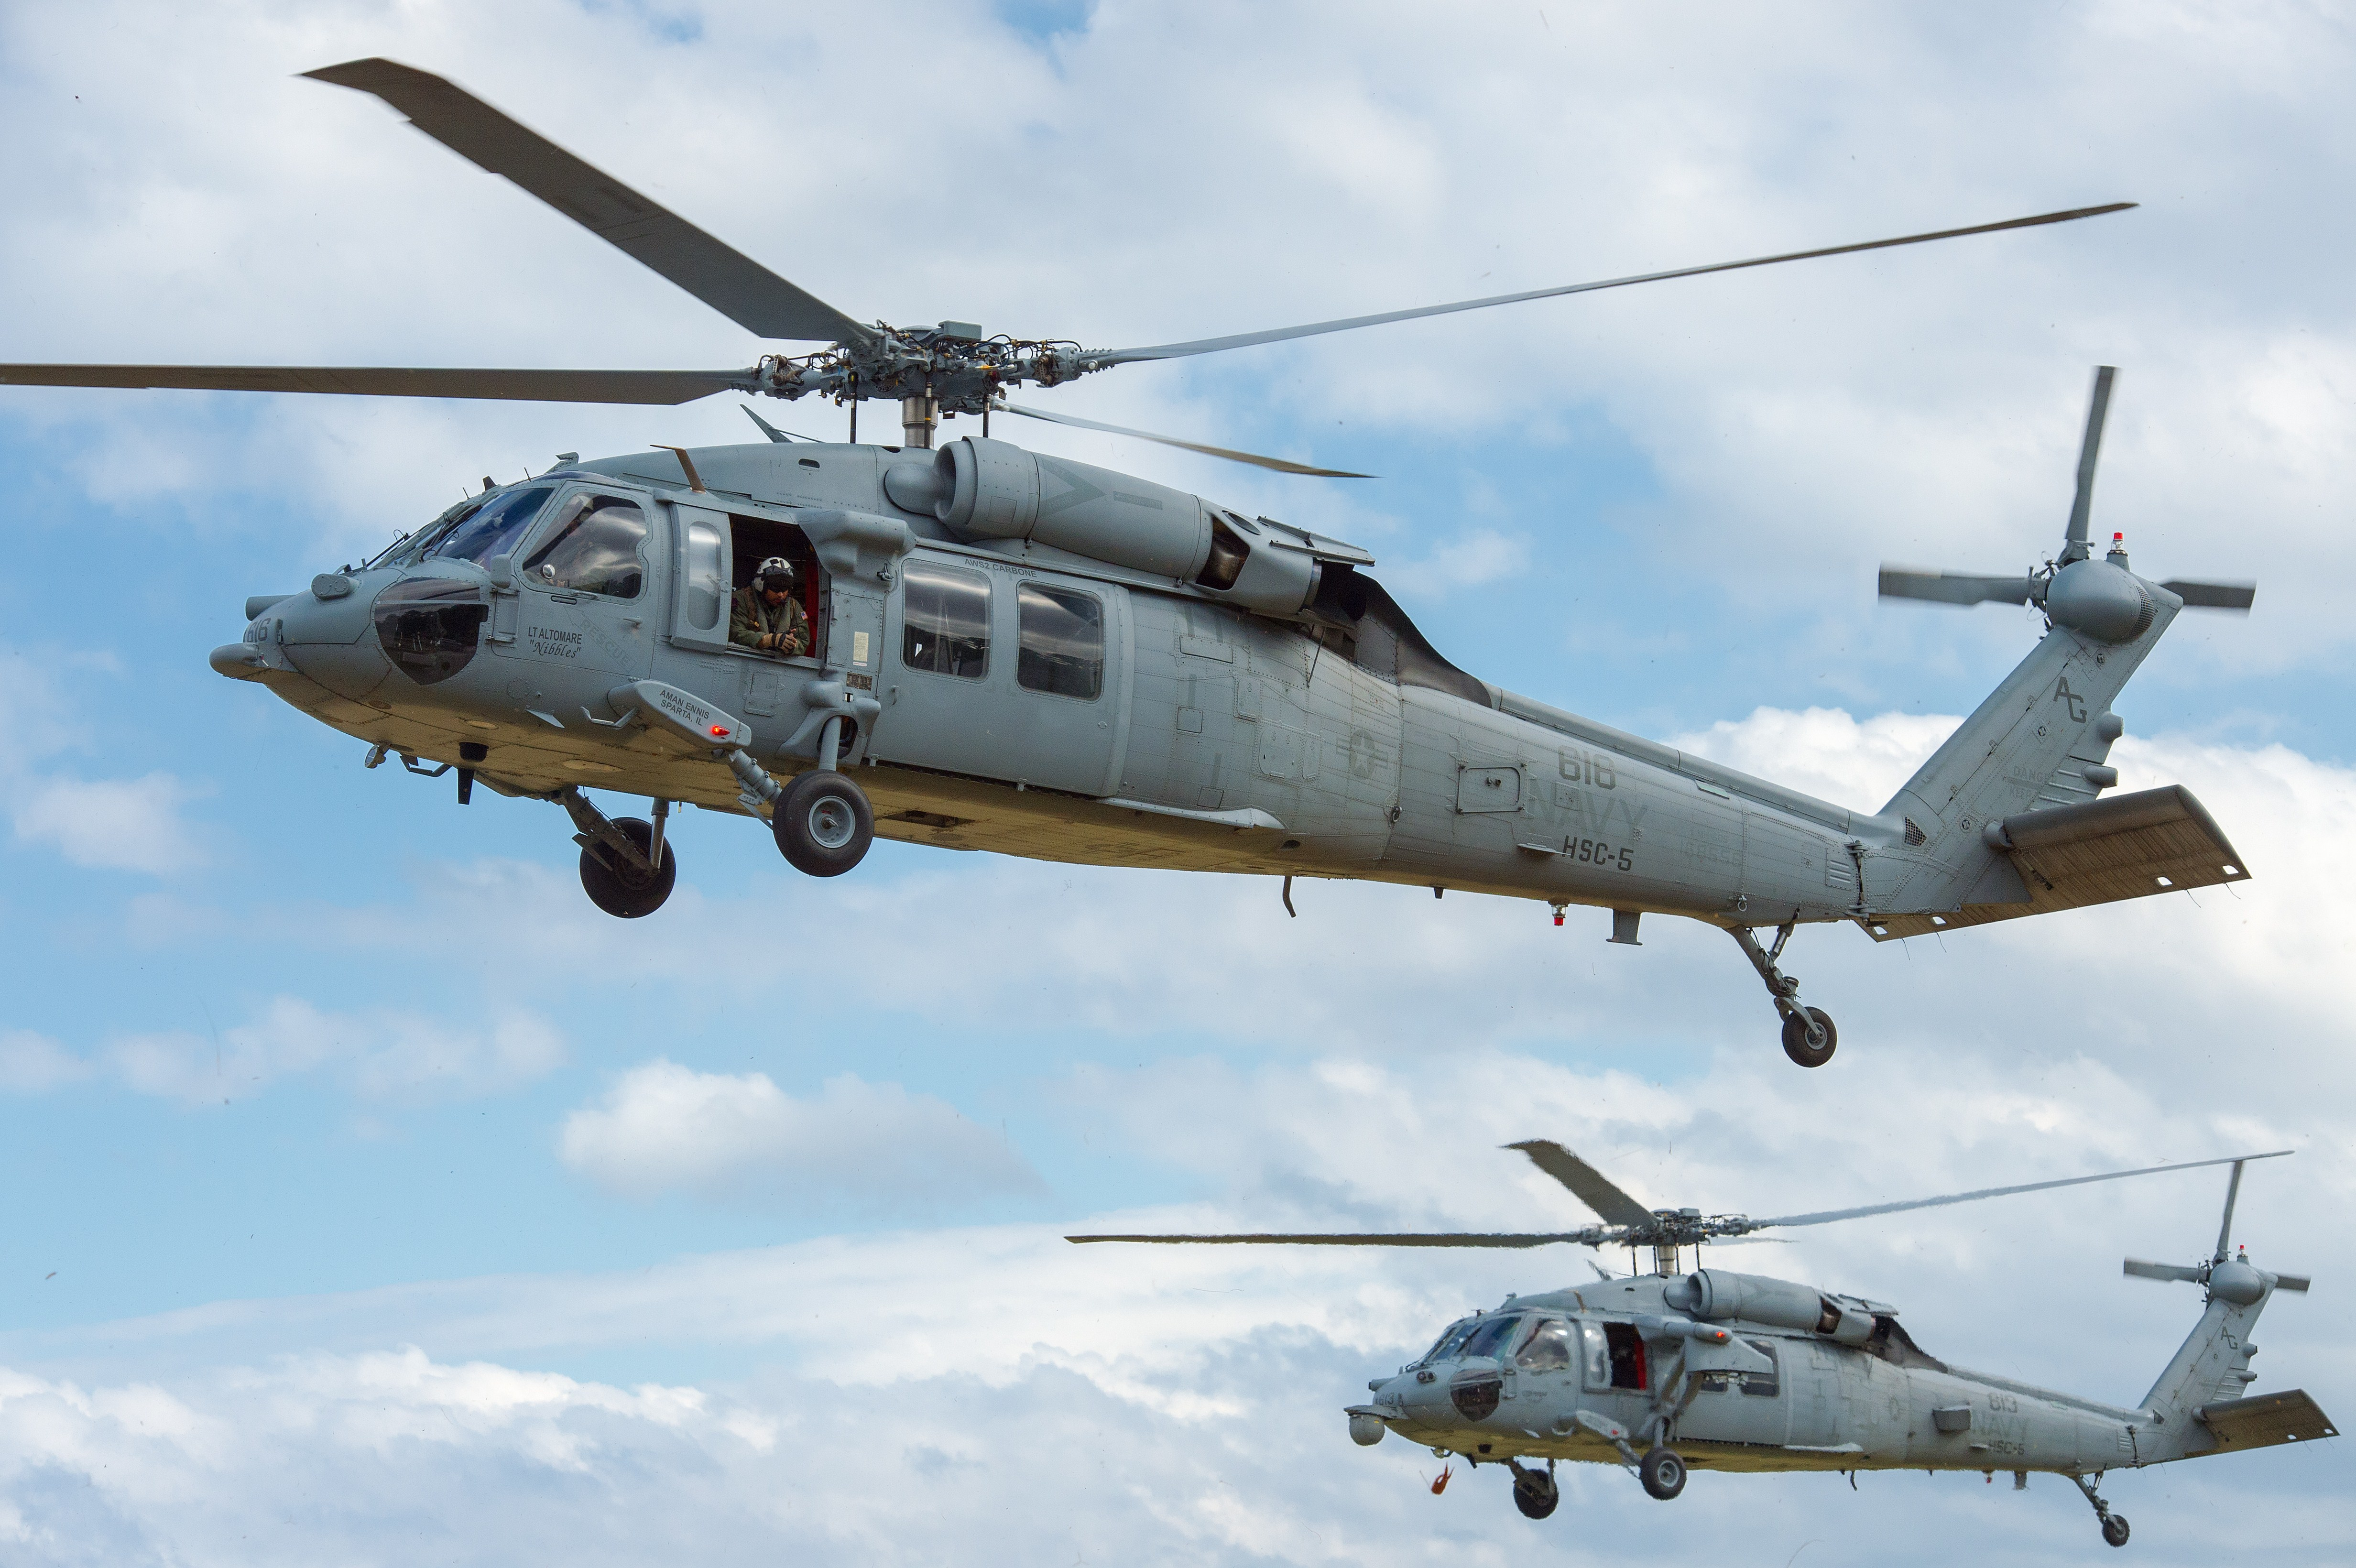MilitaryHelicopter: (180, 110, 2235, 994), (1178, 1130, 2356, 1557)
